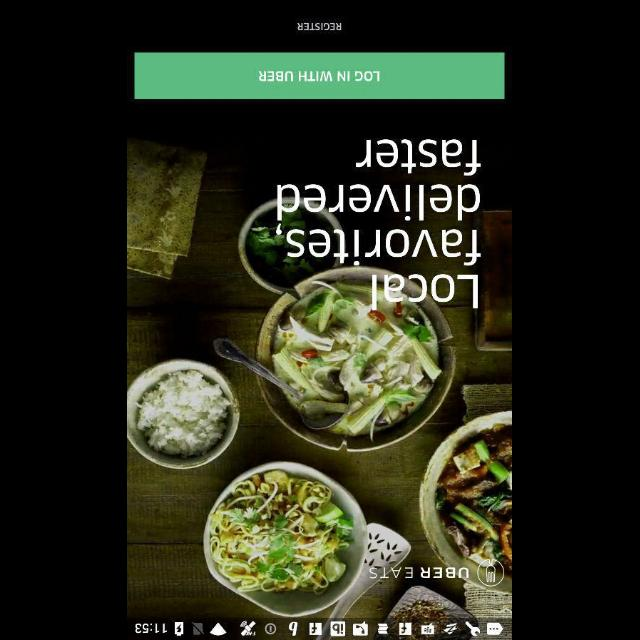backgroundimage: (128, 0, 512, 616)
image: (369, 558, 505, 586)
text: (276, 138, 482, 312), (298, 22, 342, 30)
textbutton: (135, 52, 505, 100)
uppertaskbar: (128, 617, 512, 639)
